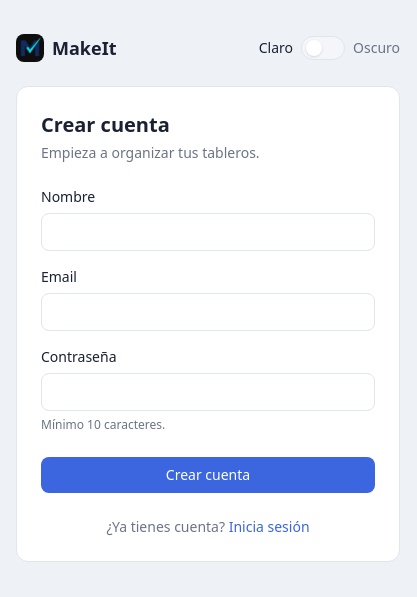
Test: RegisterPage › muestra el mensaje del servidor si el email ya existe
Type "Grace Hopper" into the field labelled "Nombre". click: (208, 232)
box: left=41, top=213, right=375, bottom=251
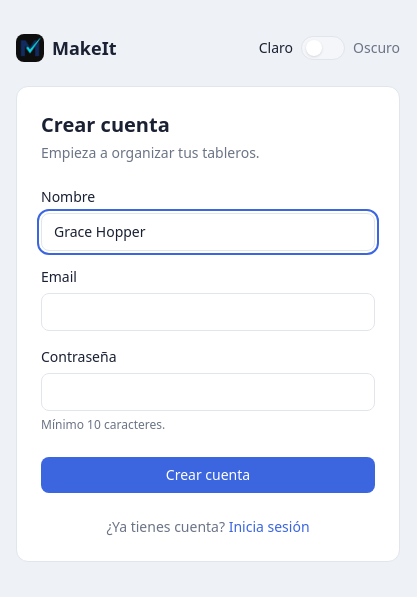
Type "grace@example.com" into the field labelled "Email". click: (208, 312)
box: left=41, top=293, right=375, bottom=331
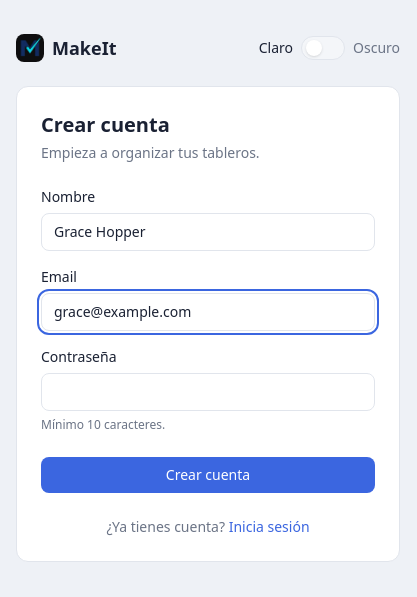
Type "una-contraseña-larga" into the password field labelled "Contraseña". click: (208, 392)
box: left=41, top=373, right=375, bottom=411
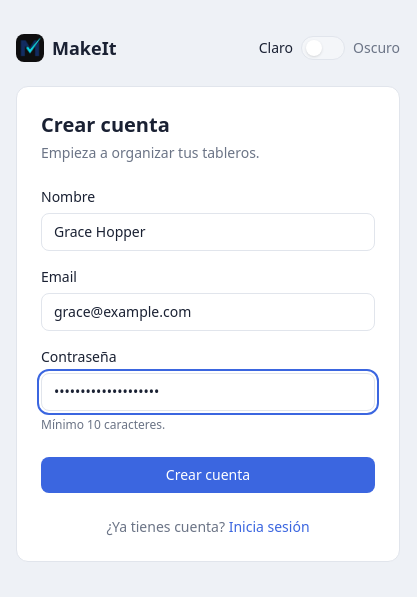
Click the button "Crear cuenta". click: (208, 475)
box: left=41, top=457, right=375, bottom=493
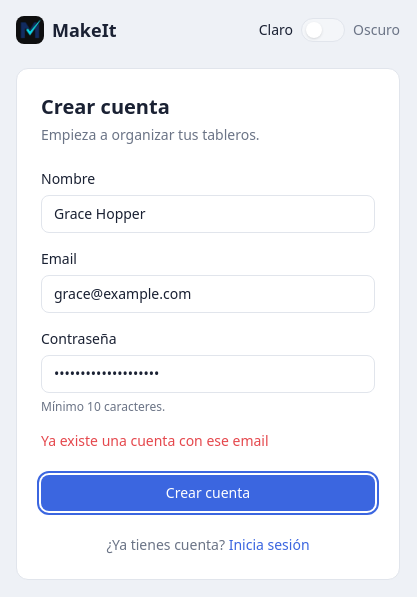
Expected: the message reads "Ya existe una cuenta con ese email", left=41, top=431, right=269, bottom=450
